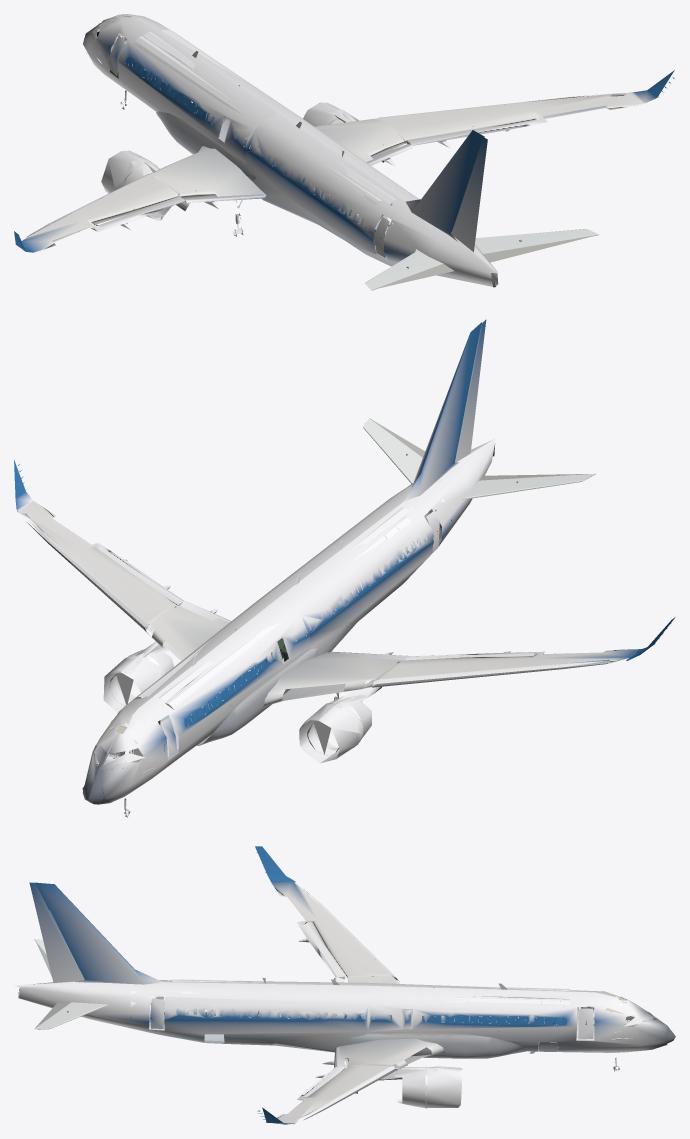
The picture shows the model from 3 angles, top to bottom: view 1: azimuth 30°, elevation 25°; view 2: azimuth 150°, elevation 25°; view 3: azimuth 270°, elevation 25°; orthographic projection. The views are drawn at different scales.
Parts seen in each view (by area): view 1: a220.001_Reversethrustpart1Mtl_0, a220_Fuselage0051Mtl_0, a220.034_Fuselage0312Mtl_0; view 2: a220.001_Reversethrustpart1Mtl_0, a220_Fuselage0051Mtl_0, a220.034_Fuselage0312Mtl_0, gear_ml; view 3: a220.001_Reversethrustpart1Mtl_0, a220_Fuselage0051Mtl_0, a220.034_Fuselage0312Mtl_0.
Boxes of the visible parts, x1=… form: a220.001_Reversethrustpart1Mtl_0: x1=14, y1=14, x2=674, y2=286; a220_Fuselage0051Mtl_0: x1=18, y1=14, x2=674, y2=290; a220.034_Fuselage0312Mtl_0: x1=125, y1=57, x2=369, y2=229; a220.001_Reversethrustpart1Mtl_0: x1=14, y1=319, x2=675, y2=804; a220_Fuselage0051Mtl_0: x1=18, y1=418, x2=671, y2=802; a220.034_Fuselage0312Mtl_0: x1=184, y1=533, x2=426, y2=727; gear_ml: x1=299, y1=720, x2=360, y2=763; a220.001_Reversethrustpart1Mtl_0: x1=14, y1=846, x2=675, y2=1124; a220_Fuselage0051Mtl_0: x1=18, y1=852, x2=667, y2=1122; a220.034_Fuselage0312Mtl_0: x1=174, y1=1008, x2=567, y2=1024.
Size of the model in its own units: 19.12 by 6.49 by 20.49.
3 materials, 3 textured.
